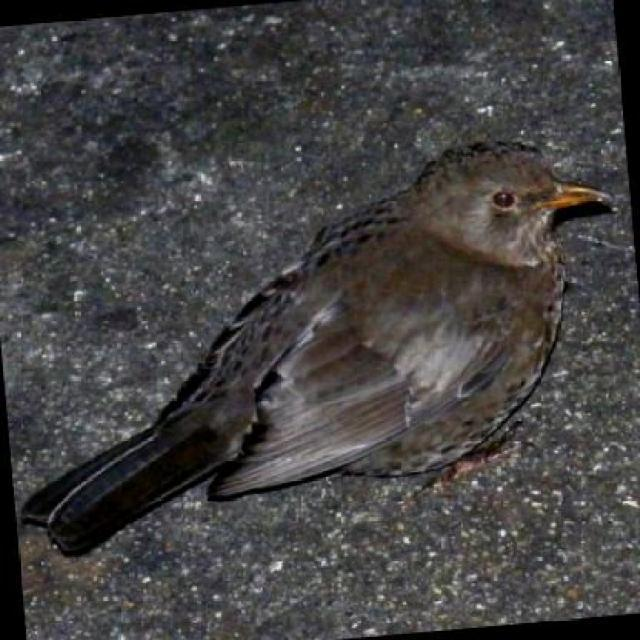Bird: (39, 108, 616, 551)
